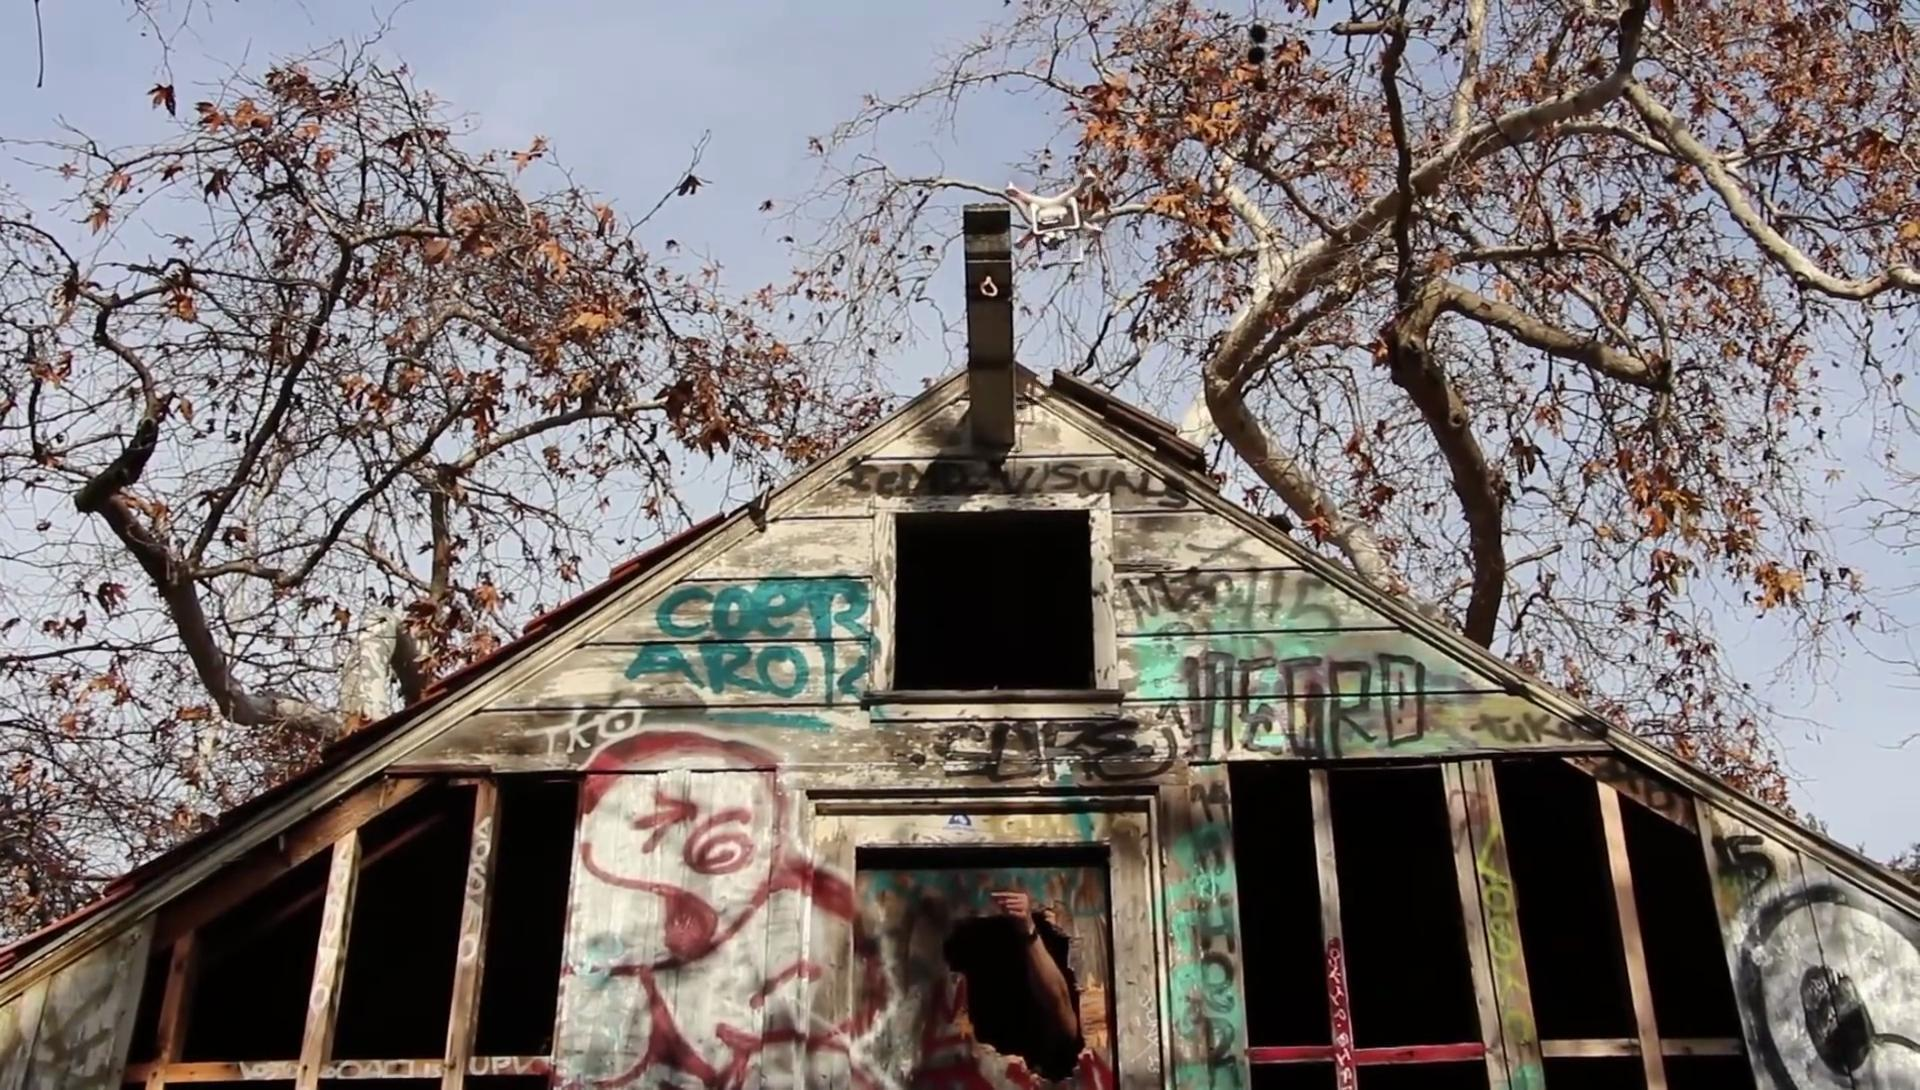drone: (996, 163, 1117, 252)
